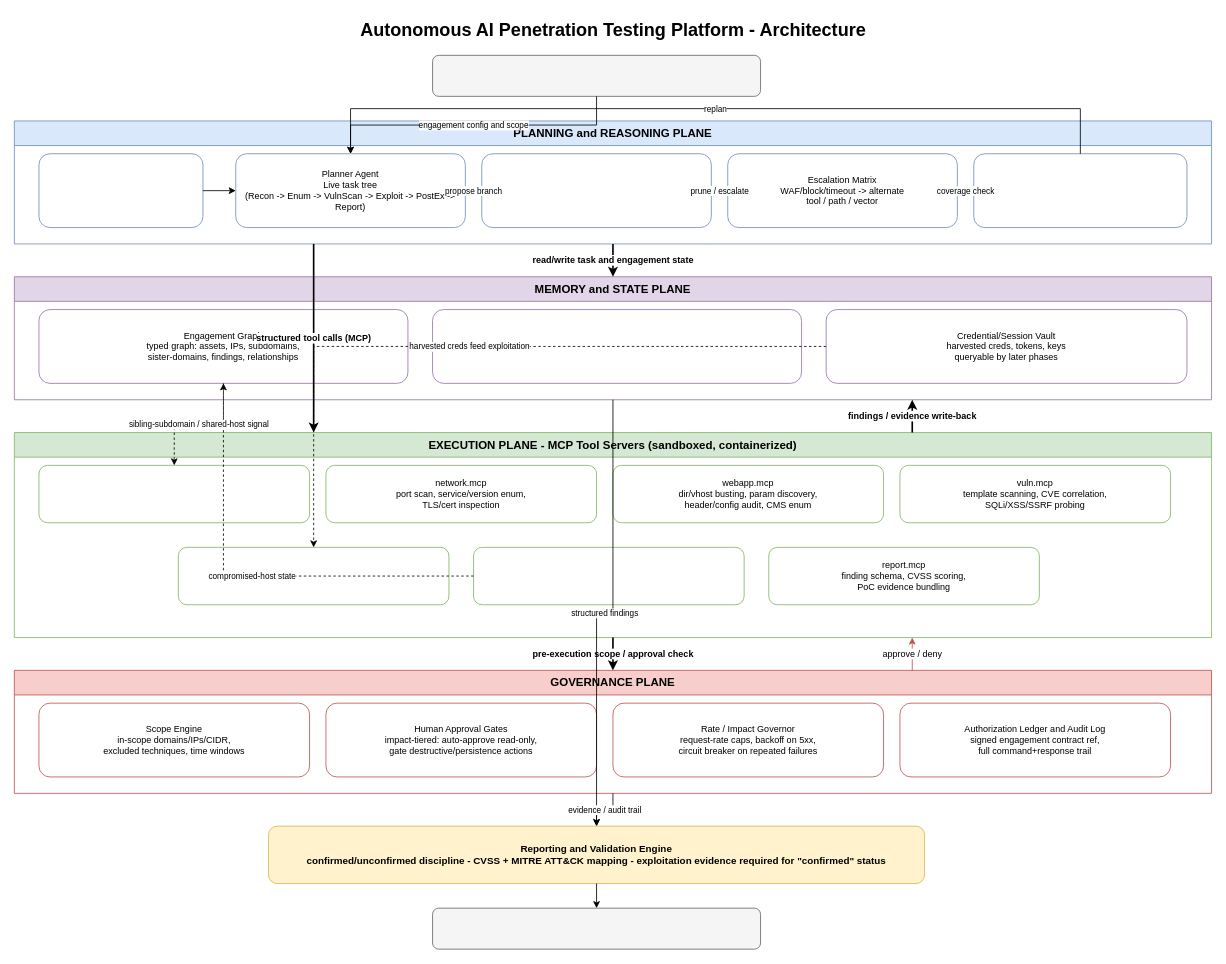
This 1226x964 diagram has some shape labels left out. The centre of each missing label's shape, as x and y in pixels:
"Critic Agent Cost/expected-value scoring prunes low-value branches early" goes at point 596,190.
"Durable Workflow Engine (Temporal-style) survives crashes / long engagements" goes at point 617,346.
"exploit.mcp Metasploit RPC, exploit-db lookup, custom PoC runner (gated)" goes at point 313,576.
"Final Report Output (HTML / PDF / JSON)" goes at point 596,928.
"LLM Backend (swappable - any model) plugs into Planner/Critic roles only" goes at point 120,190.
"postex.mcp credential/artifact collection, lateral-movement mapping (gated)" goes at point 608,576.
"recon.mcp WHOIS/DNS/subfinder/ sister-domain, OSINT, Wayback" goes at point 174,494.
"Reflection Loop post-phase self-critique vs. expected coverage checklist" goes at point 1080,190.
"Target / Client Environment (scoped assets - domains, IPs, apps)" goes at point 596,75.
